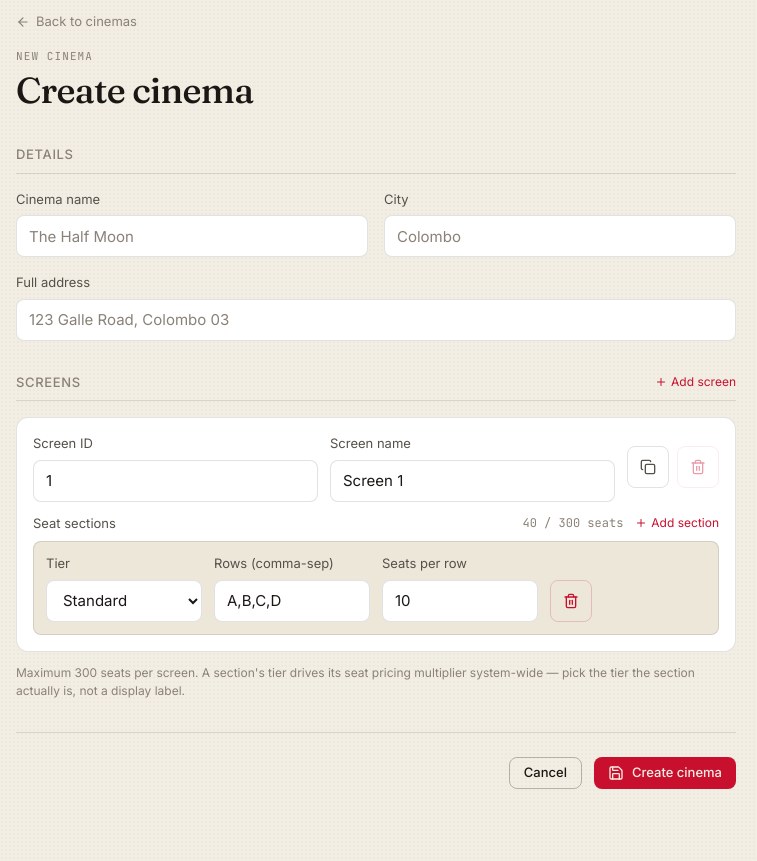
Test: AdminCinemaFormPage › validates required fields before submitting a new cinema
This screenshot has width=757, height=861.
Check: the heading "Create cinema" is shown, box [16,68,253,112]
Step 1. Click the button "Create cinema" → [665, 772], box [594,756,736,788]
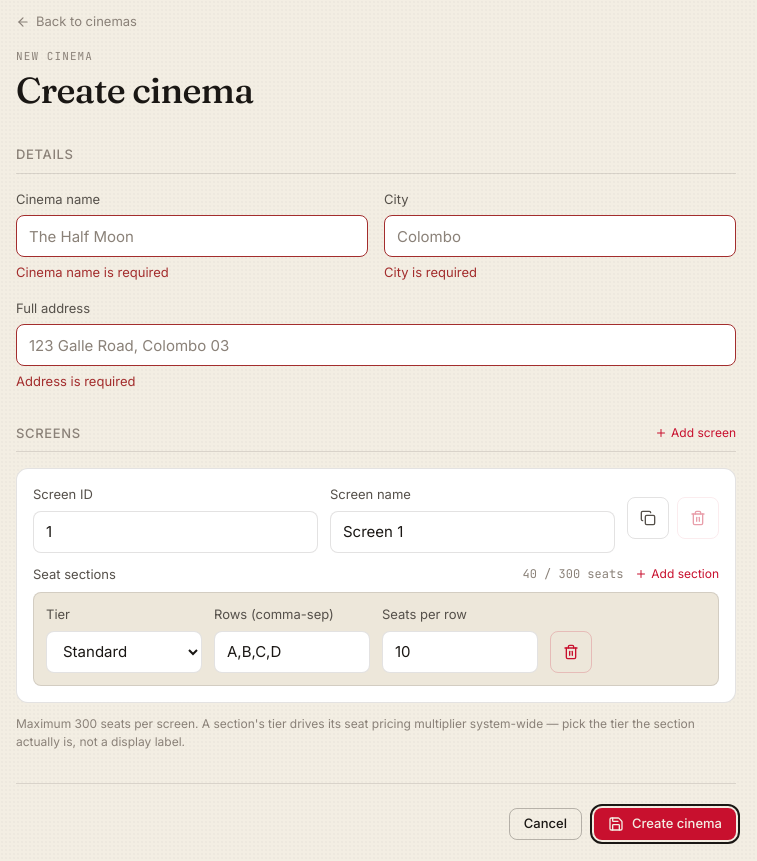
Check: the text "Cinema name is required" is shown, box [16,264,169,280]
Check: the text "City is required" is shown, box [384,264,477,280]
Check: the text "Address is required" is shown, box [16,373,136,389]
